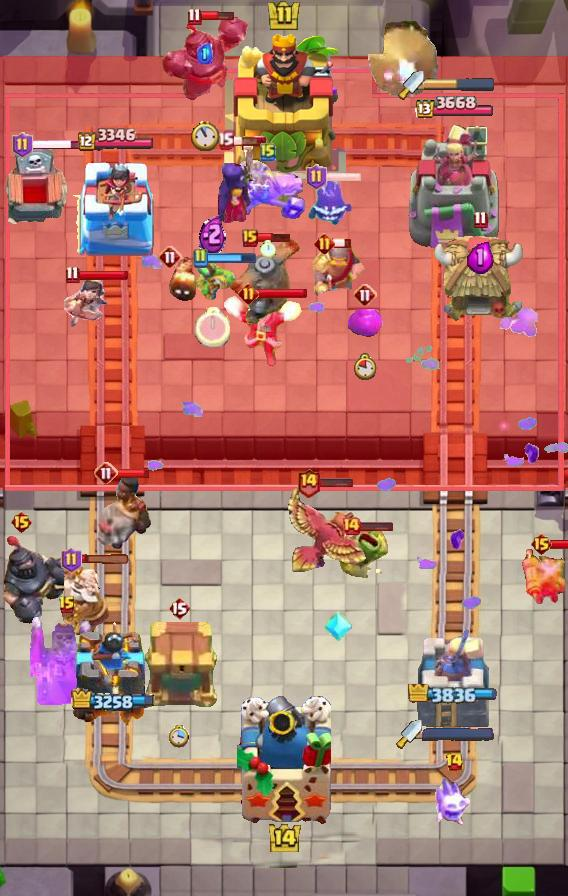axe: (214, 137, 260, 225)
bar: (406, 122, 500, 256), (414, 623, 492, 731)
bomb: (140, 621, 218, 709)
bomber: (167, 256, 199, 304)
dark-prince: (217, 238, 311, 324)
electro-spirit: (198, 214, 225, 255), (466, 240, 493, 274), (197, 43, 213, 65)
elite-barbarian: (92, 474, 152, 550)
elixir: (194, 307, 229, 347), (191, 121, 219, 152), (354, 352, 377, 379), (169, 725, 189, 748), (260, 240, 276, 258)
elixir-collector: (58, 557, 112, 637)
elixir-golem-mid: (0, 147, 70, 233)
emote: (31, 137, 86, 150), (205, 252, 257, 264), (77, 269, 129, 281), (256, 287, 308, 299), (79, 554, 131, 566), (326, 171, 363, 183), (231, 135, 267, 147), (256, 232, 292, 244), (318, 476, 354, 488), (358, 520, 394, 532), (201, 10, 236, 22), (116, 469, 150, 480), (332, 237, 352, 249), (550, 538, 568, 550)
firecracker: (312, 241, 366, 297)
flying-machine: (338, 524, 396, 578)
freeze: (228, 156, 308, 220)
giant-snowball: (188, 258, 236, 302)
golden-knight: (286, 485, 368, 573)
king-tower: (222, 31, 346, 181), (237, 696, 331, 826)
king-tower-bar: (424, 77, 496, 91), (422, 727, 494, 741)
miner: (347, 309, 383, 339)
mirror: (434, 777, 474, 827)
mortar: (219, 294, 305, 368)
pad_2: (324, 609, 352, 643)
prince: (433, 234, 527, 324)
queen-tower: (72, 619, 156, 731), (69, 158, 159, 256)
royal-guardian: (159, 17, 251, 103), (0, 533, 78, 627)
selected: (71, 688, 157, 714), (75, 127, 153, 153), (413, 96, 493, 121), (407, 684, 499, 704)
skeleton-dragon: (59, 273, 109, 329)
skeleton-king-bar: (30, 617, 104, 705)
spear-goblin: (304, 181, 356, 225)
text: (295, 466, 320, 497), (158, 245, 182, 269), (353, 283, 377, 307), (94, 461, 118, 485), (305, 164, 327, 190), (10, 510, 33, 534), (530, 532, 553, 556), (11, 132, 32, 158), (62, 547, 83, 573), (168, 596, 190, 620), (238, 283, 259, 305), (314, 233, 335, 254), (341, 516, 361, 536), (445, 752, 464, 772), (58, 595, 76, 615), (260, 142, 276, 162), (192, 248, 208, 268), (217, 131, 234, 149), (242, 229, 258, 247), (472, 211, 487, 230), (65, 265, 80, 284), (186, 7, 201, 25)
tombstone: (522, 547, 568, 609)
x-bow: (353, 18, 439, 100)
